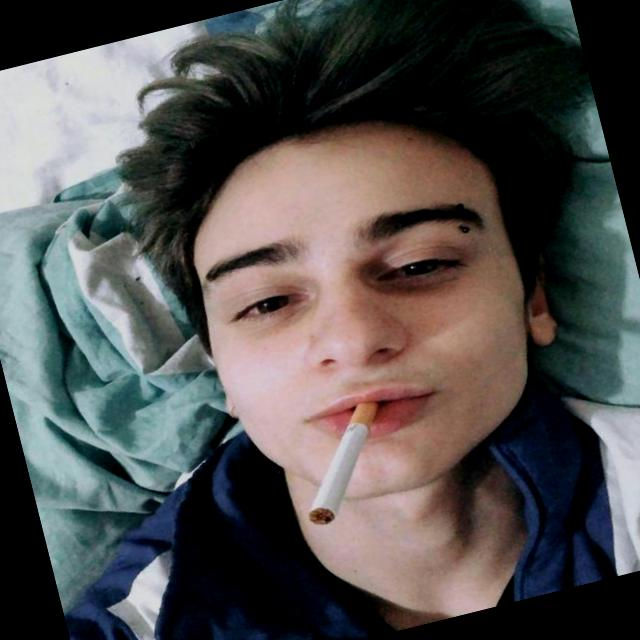smoke: (277, 382, 410, 539)
